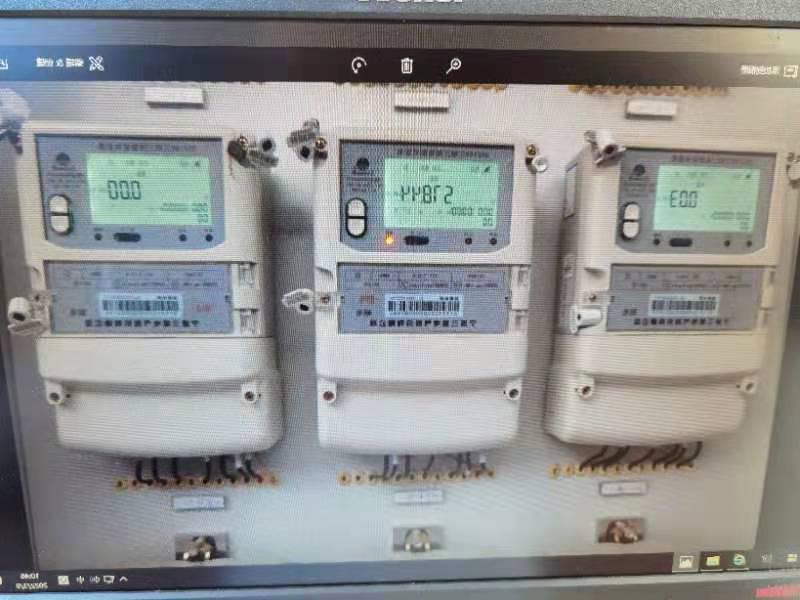digital: (20, 120, 267, 456), (315, 126, 533, 452), (564, 142, 785, 441)
